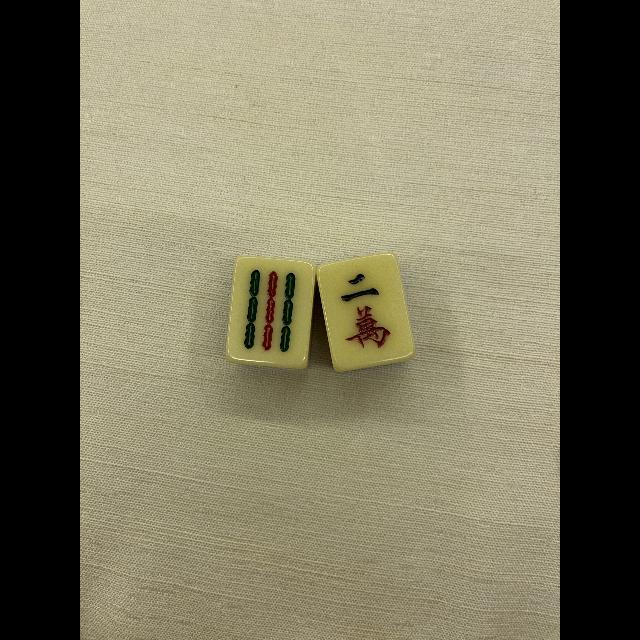b9: (230, 259, 310, 365)
c2: (326, 260, 402, 362)
